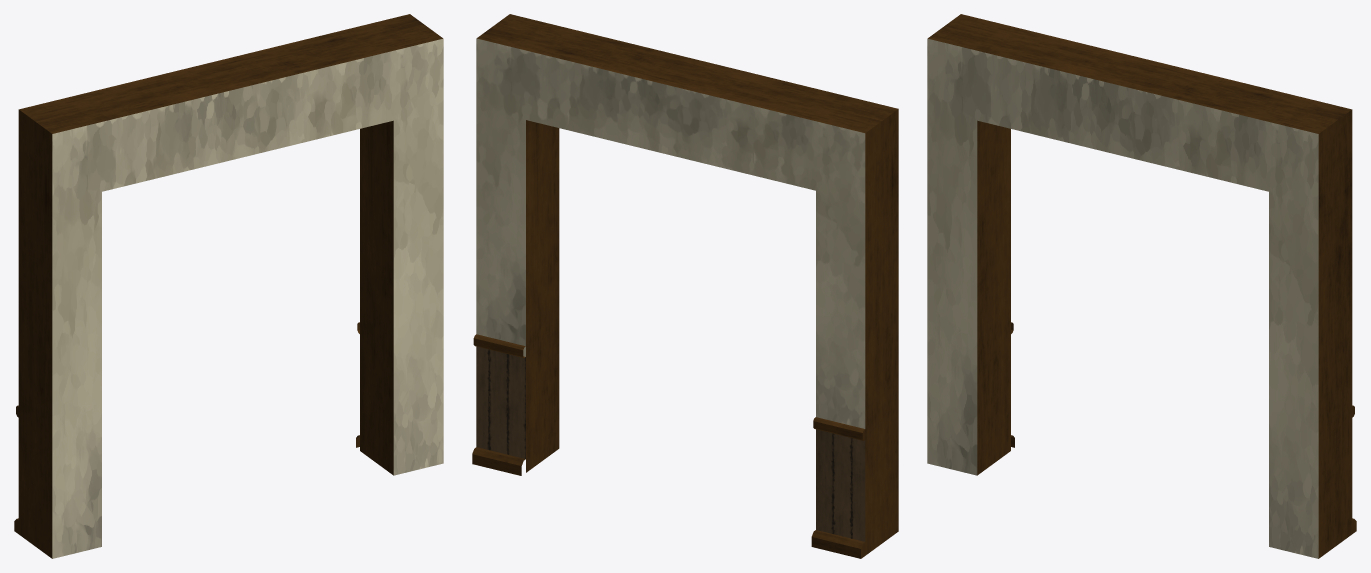
Rendered from Doorframe.fbx.
3 renders of one model, left to right at view 1: azimuth 30°, elevation 25°; view 2: azimuth 150°, elevation 25°; view 3: azimuth 330°, elevation 25°, orthographic.
Visible parts, largest first — view 1: Doorframe; view 2: Doorframe; view 3: Doorframe.
Part boxes in pixels (x1=…): Doorframe: x1=14, y1=14, x2=443, y2=558; Doorframe: x1=472, y1=14, x2=898, y2=558; Doorframe: x1=927, y1=14, x2=1356, y2=558.
Size of the model in its own units: 261 by 271 by 43.84.
